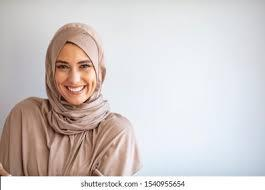scarf-kerchief: (41, 15, 113, 131)
